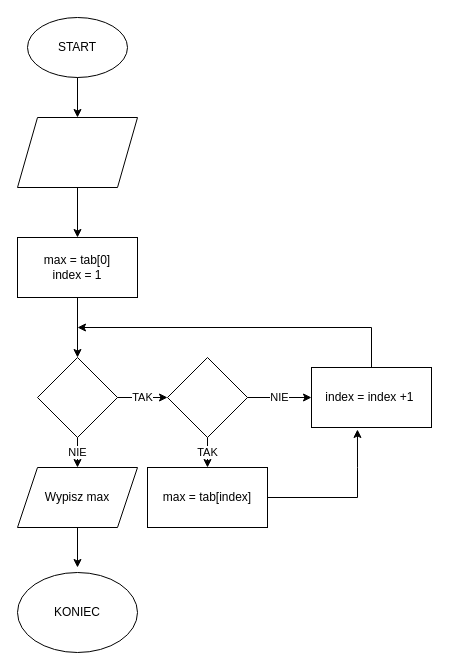
Image size: 449x670. Some labels were removed from this diagram. Each missing label, with the centre of its shape:
index < 10: point (77, 397)
tab[index]>max: point (207, 397)
Wczytaj 1- liczb do tablicy tab: point (77, 152)
